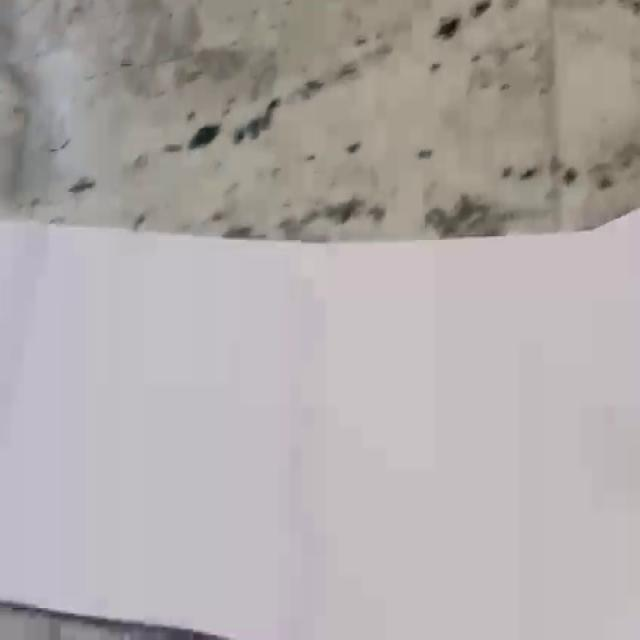road: (0, 208, 640, 640)
